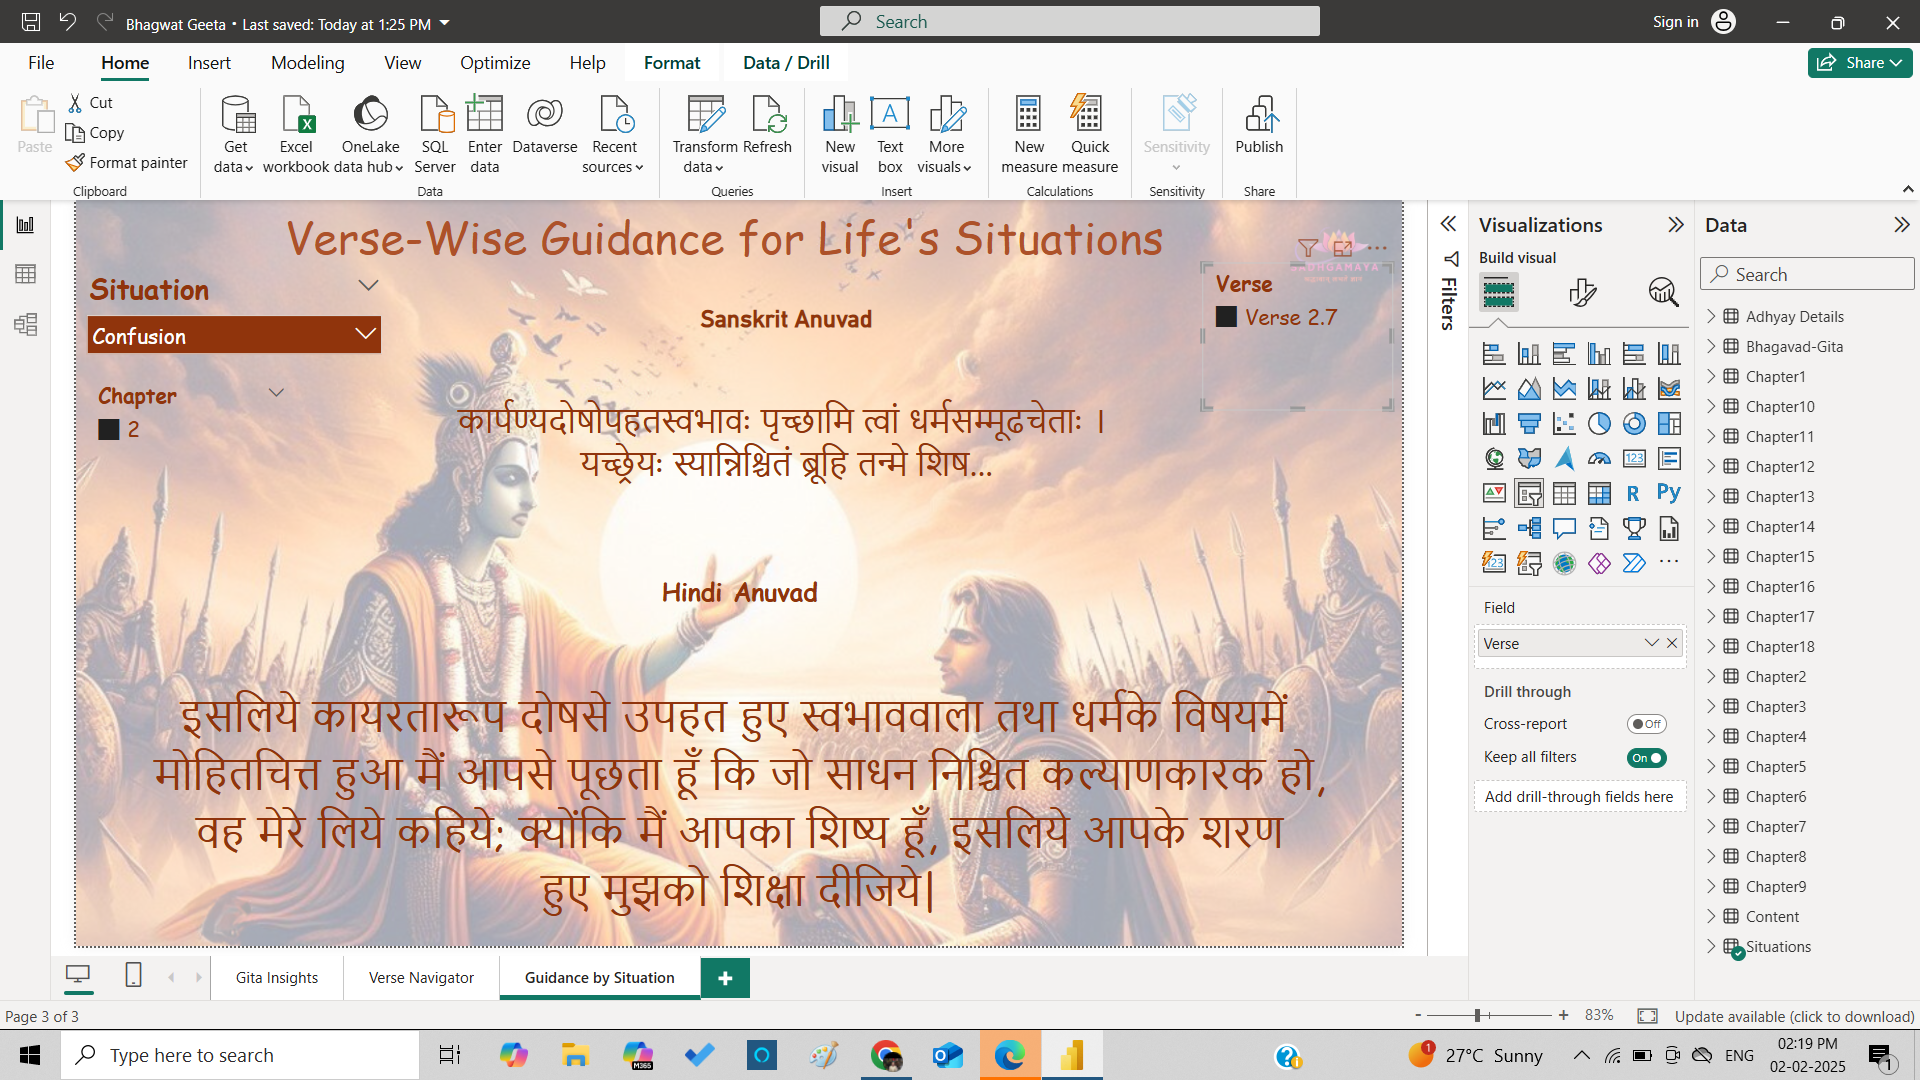

The dashboard page shown, as its layout file describes it:
{"tool":"powerbi","page":{"name":"Guidance by Situation","canvas":[1280,720],"ordinal":2},"visuals":[{"type":"slicer","fields":{"Values":["Situations.Situation"]},"box":[0,61.5,305.1,95.3],"z":0},{"type":"slicer","fields":{"Values":["Situations.Chapter"]},"box":[8.3,157.1,204.7,148.8],"z":1000},{"type":"slicer","fields":{"Values":["Situations.Custom"]},"box":[1086.5,60.7,184.5,141.6],"z":2000},{"type":"card","title":"Hindi Anuvad","fields":{"Values":["Min(Situations.Bhagavad-Gita.Hindi Anuvad)"]},"box":[0,360.6,1280.8,359.4],"z":3000},{"type":"textbox","box":[120.8,0,1010,86.4],"z":4000},{"type":"card","title":"Sanskrit Anuvad","fields":{"Values":["Min(Situations.Bhagavad-Gita.Sanskrit Anuvad)"]},"box":[322,101.3,727.2,227.9],"z":5000}]}

Visuals, with their boxes on the page's 1280x720 design canvas (x1, y1, x2, y2). These are canvas units, not pixel positions in the 1920x1080 screenshot, which may show the page scaled, cropped or inside an application window:
slicer - Situations.Situation: crop(0, 62, 305, 157)
slicer - Situations.Chapter: crop(8, 157, 213, 306)
slicer - Situations.Custom: crop(1086, 61, 1271, 202)
"Hindi Anuvad" card: crop(0, 361, 1281, 720)
textbox: crop(121, 0, 1131, 86)
"Sanskrit Anuvad" card: crop(322, 101, 1049, 329)
